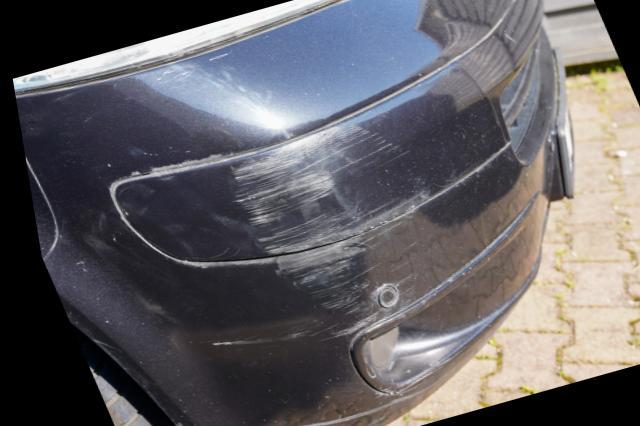scratch: (199, 123, 425, 349)
